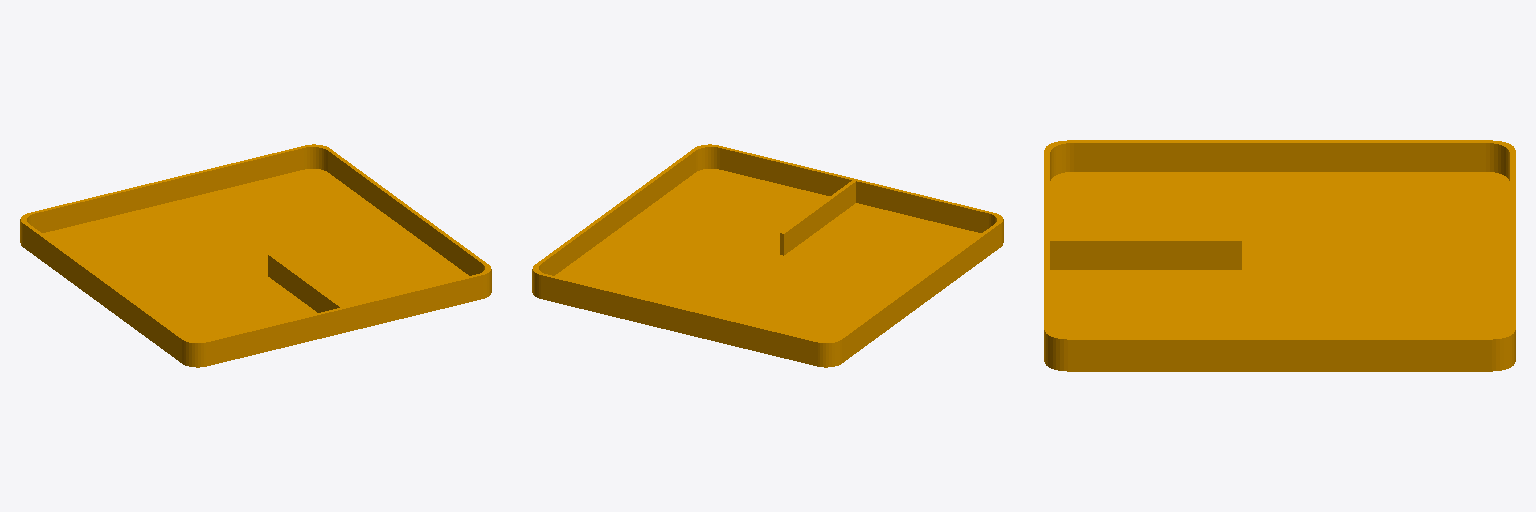
URDF robot description (arena):
<?xml version="1.0" encoding="utf-8"?>
<!-- =================================================================================== -->
<!-- |    This document was autogenerated by xacro from arena.urdf.xacro               | -->
<!-- |    EDITING THIS FILE BY HAND IS NOT RECOMMENDED                                 | -->
<!-- =================================================================================== -->
<robot name="arena">
  <link name="arena_link">
    <collision>
      <origin rpy="0 0 -4.71238898038" xyz="0 0 0"/>
      <!-- <origin xyz="0 0 0" rpy="0 0 0" /> -->
      <geometry>
        <mesh filename="package://hero_gazebo/worlds/models/arena_2/arena.dae" scale="1 1 1"/>
      </geometry>
    </collision>
    <visual>
      <origin rpy="0 0 -4.71238898038" xyz="0 0 0"/>
      <!-- <origin xyz="0 0 0" rpy="0 0 0" /> -->
      <geometry>
        <mesh filename="package://hero_gazebo/worlds/models/arena_2/arena.dae" scale="1 1 1"/>
      </geometry>
    </visual>
    <inertial>
      <origin rpy="0 0 0" xyz="0 0 0"/>
      <mass value="100"/>
      <inertia ixx="134.083333333" ixy="0" ixz="0" iyy="134.083333333" iyz="0" izz="134.083333333"/>
    </inertial>
  </link>
  <gazebo reference="arena_link">
    <static>true</static>
    <gravity>false</gravity>
    <selfCollide>false</selfCollide>
  </gazebo>
</robot>

--- What the picture shows (computed from the rendered views, not written in the file) ---
The picture shows the robot from 3 angles, left to right: view 1: azimuth 30°, elevation 25°; view 2: azimuth 150°, elevation 25°; view 3: azimuth 270°, elevation 25°; orthographic projection.
Robot: arena — 1 links, 0 joints (none); root link arena_link; default pose: all joints at 0.
Links seen in each view (by area): view 1: arena_link; view 2: arena_link; view 3: arena_link.
Link boxes in pixels (left/top/right/bottom): arena_link: left=20, top=144, right=491, bottom=367; arena_link: left=532, top=144, right=1003, bottom=367; arena_link: left=1044, top=140, right=1515, bottom=371.
Bounding box of the posed robot: 4 × 4 × 0.3 m (x, y, z).
Meshes: 1 distinct files referenced, 1 mesh visuals loaded (1 Collada DAE).
